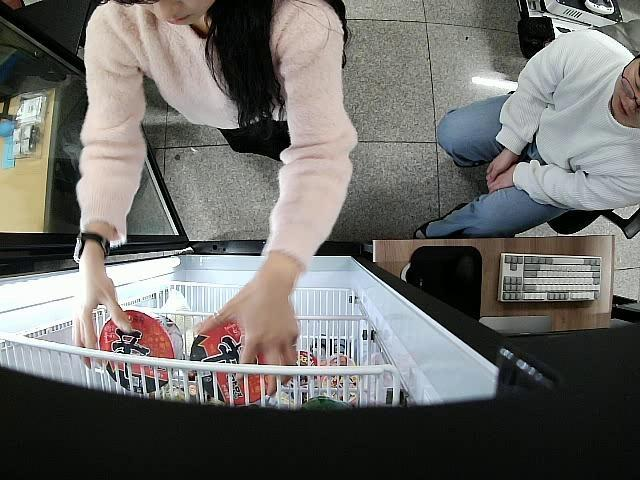01_ShinRamen_L: (98, 310, 182, 395), (189, 320, 273, 400)
